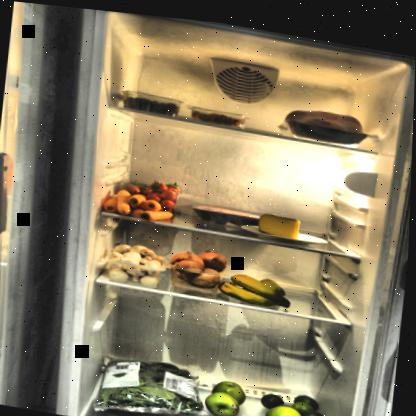apple: (206, 371, 255, 415), (265, 395, 309, 415)
banana: (220, 264, 297, 304)
blueberries: (124, 91, 179, 114)
carrot: (100, 181, 177, 224)
cheese: (256, 205, 305, 236)
chicken: (276, 95, 373, 144)
ground_beef: (192, 197, 274, 227)
lime: (292, 385, 332, 415), (263, 385, 290, 406)
mushrooms: (103, 236, 171, 288)
onion: (168, 238, 232, 288)
shrimp: (187, 102, 249, 128)
spinach: (94, 347, 217, 415)
strawberries: (122, 172, 180, 209)
